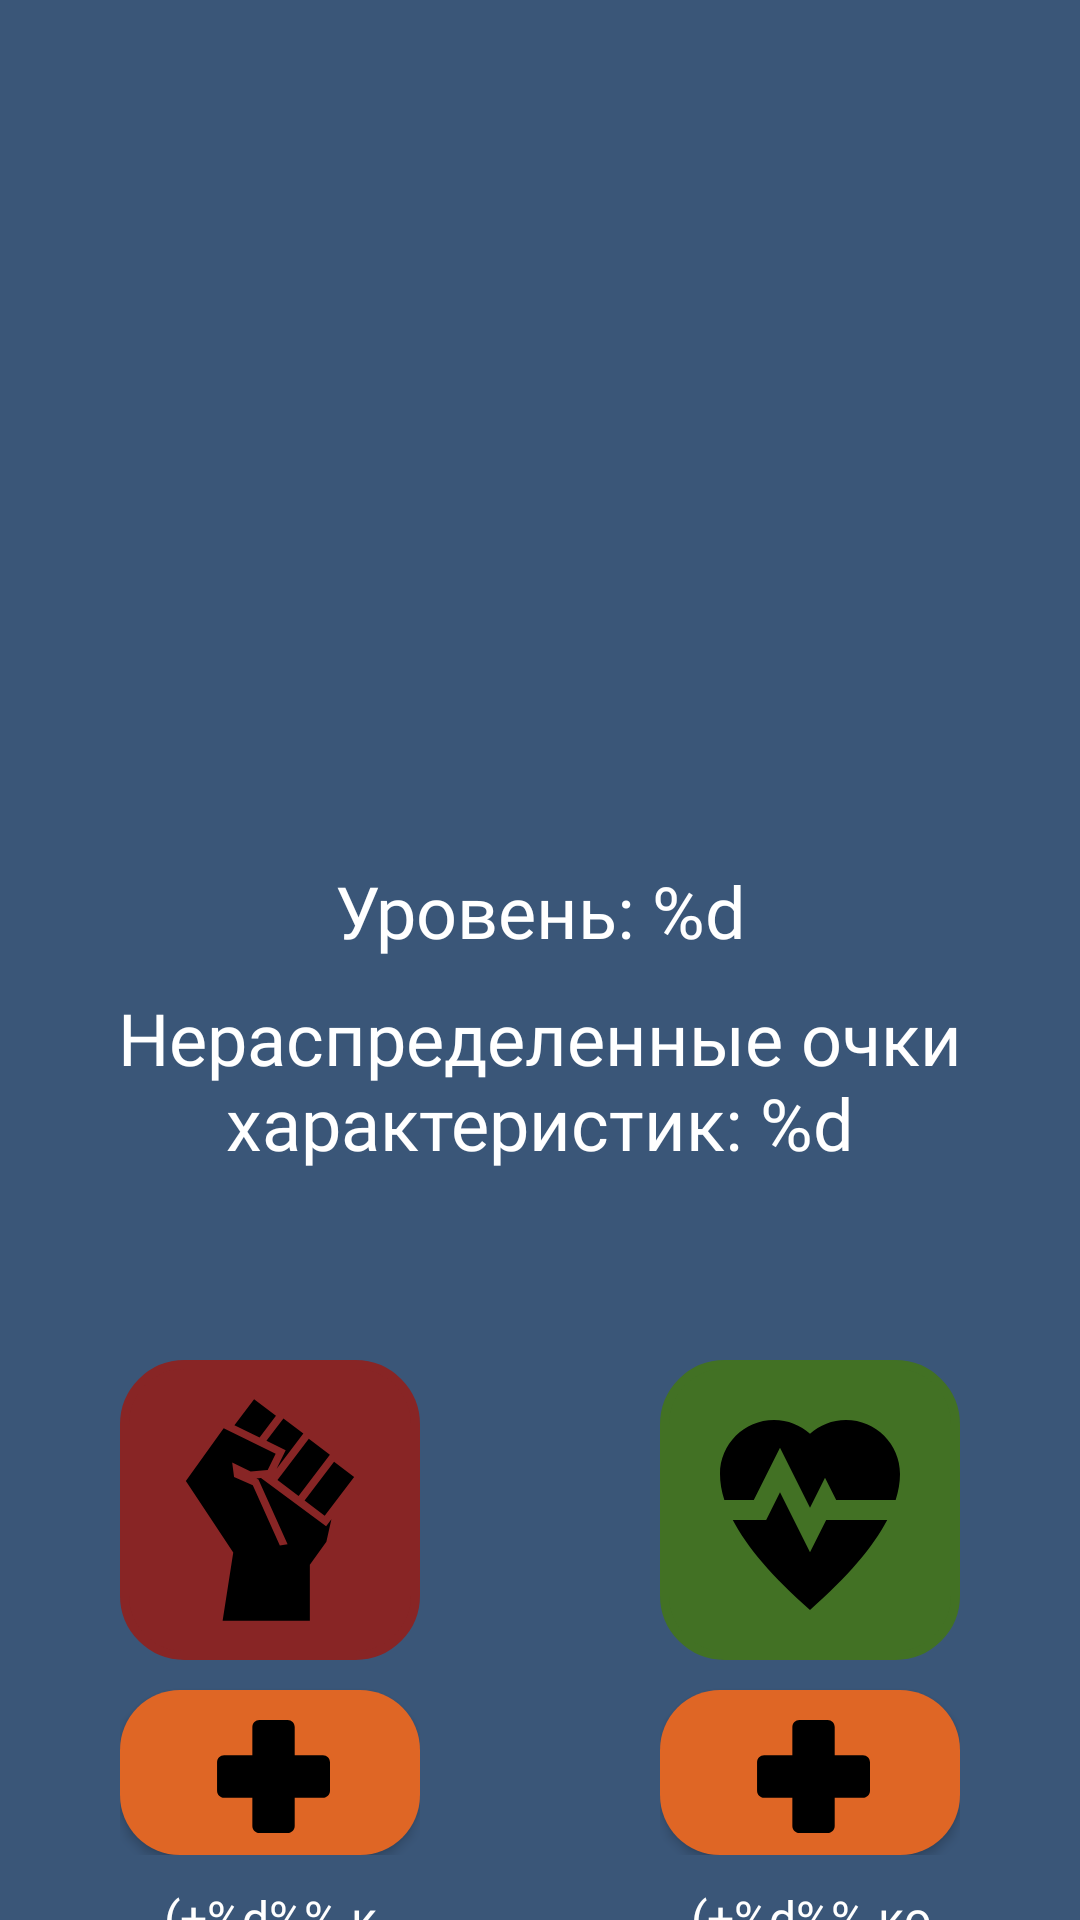

Point at icon controls on the screen. Image size 1080 × 1920, points as (x=x, y=y).
add characteristic: (x=273, y=1776), (x=813, y=1776)
endurance: (x=810, y=1510)
strength: (x=270, y=1510)
